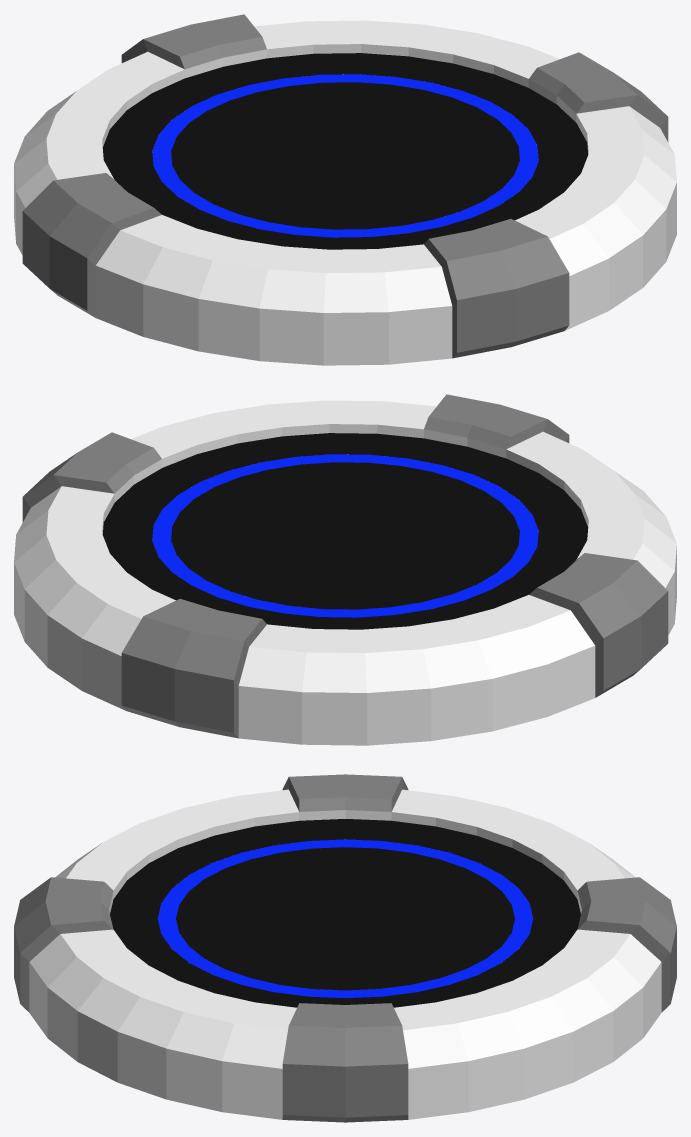
Rendered from launchpad.glb.
3 views of the same model, one above another, from view 1: azimuth 30°, elevation 25°; view 2: azimuth 150°, elevation 25°; view 3: azimuth 270°, elevation 25° (orthographic). The views are drawn at different scales.
Visible parts, largest first — view 1: LaunchPad_collider; view 2: LaunchPad_collider; view 3: LaunchPad_collider.
Boxes of the visible parts, <box> form: LaunchPad_collider: <box>14,14,676,365</box>; LaunchPad_collider: <box>14,394,676,745</box>; LaunchPad_collider: <box>14,774,676,1122</box>.
Bounding box in the file's own units: 1.98 × 0.3156 × 1.98.
2 materials, 2 textured.
